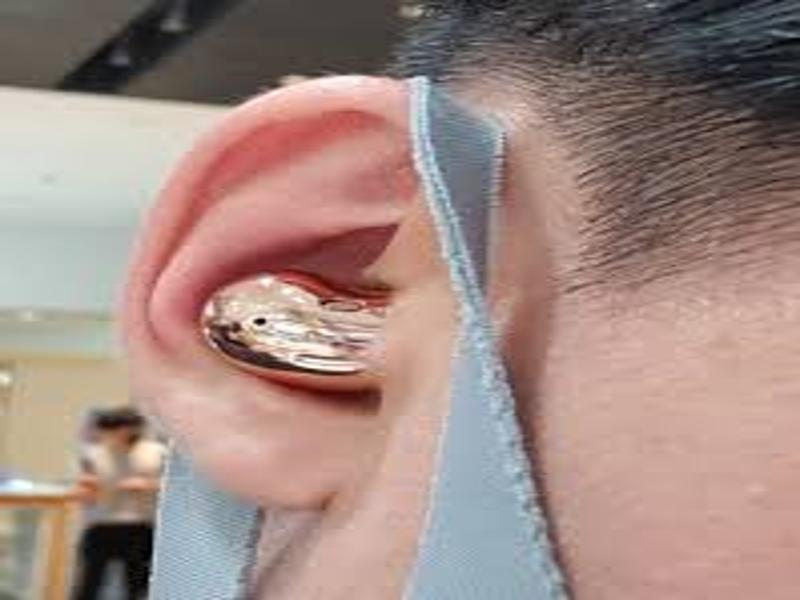headphone: (200, 270, 393, 404)
